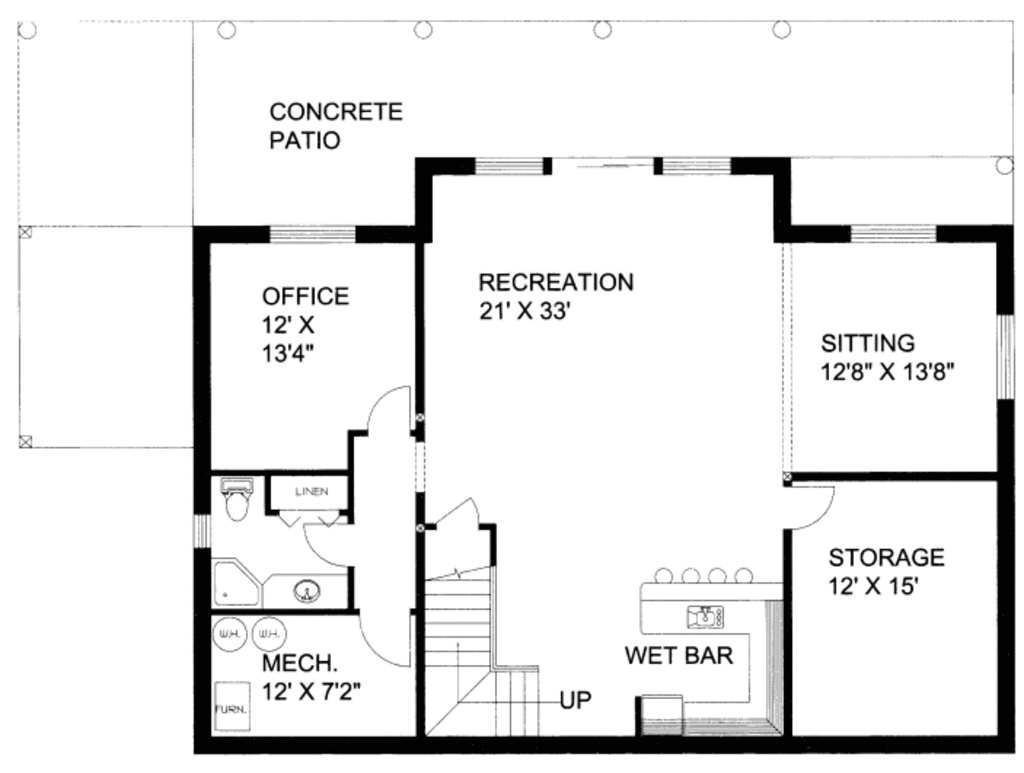door: (352, 379, 423, 444), (353, 609, 418, 670), (779, 482, 840, 530), (294, 526, 359, 566), (437, 491, 479, 532)
kitchen_bar: (640, 565, 794, 744)
large_sink: (216, 474, 255, 523)
small_sink: (260, 574, 351, 615)
stairs: (415, 534, 556, 736)
window: (848, 214, 940, 249), (992, 311, 1024, 398), (268, 223, 362, 245), (469, 151, 545, 177), (664, 156, 727, 178)
